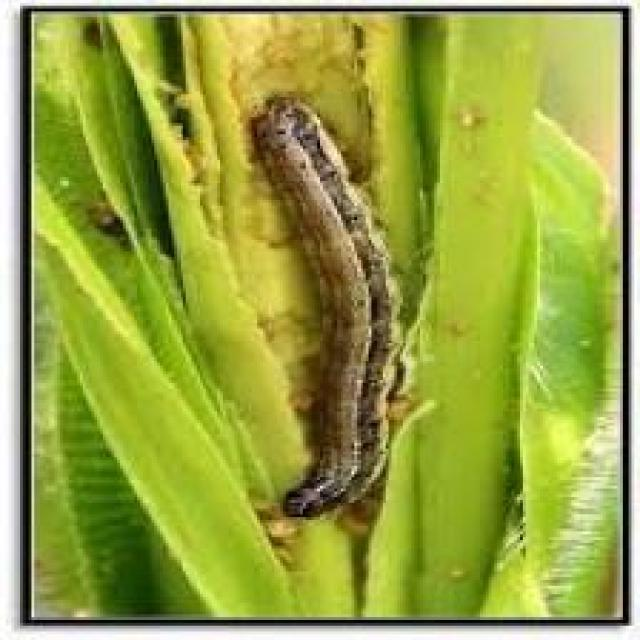Plaga: (250, 88, 418, 534)
